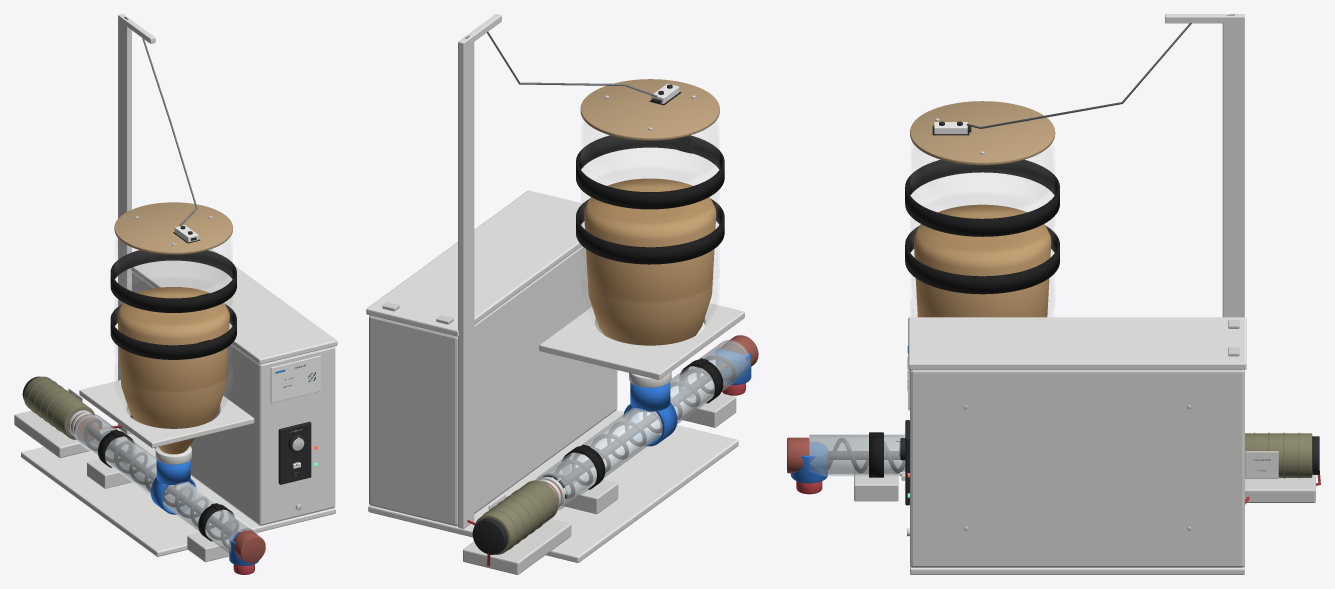
Rendered from feeder-v1.1.0.glb.
3 renders of one model, left to right at view 1: azimuth 30°, elevation 25°; view 2: azimuth 150°, elevation 25°; view 3: azimuth 270°, elevation 25°, orthographic. The views are drawn at different scales.
Visible parts, largest first — view 1: Chassis, Grain_Fill, Base_Plate, Chassis_Lid, Tube_Glass, Hopper_Glass, Hopper_Lid, Hopper_Strap_2, Shelf, Post, Hopper_Strap_1, Motor_Body (+12 smaller); view 2: Chassis, Grain_Fill, Chassis_Lid, Base_Plate, Post, Tube_Glass, Hopper_Glass, Hopper_Lid, Shelf, Hopper_Strap_2, Hopper_Strap_1, Motor_Body (+13 smaller); view 3: Chassis, Chassis_Lid, Grain_Fill, Hopper_Glass, Post, Hopper_Lid, Hopper_Strap_2, Hopper_Strap_1, Tube_Glass, Base_Plate, Motor_Body, Motor_Mount (+5 smaller).
Part boxes in pixels (x1,y1,x2,y2): Chassis: (132,271,335,525); Grain_Fill: (117,287,229,454); Base_Plate: (21,428,335,556); Chassis_Lid: (131,249,337,364); Tube_Glass: (74,414,257,552); Hopper_Glass: (115,238,232,412); Hopper_Lid: (114,202,232,254); Hopper_Strap_2: (110,250,236,312); Shelf: (79,380,254,448); Post: (118,14,131,434); Hopper_Strap_1: (110,304,236,359); Motor_Body: (23,376,94,439); Chassis: (369,246,617,526); Grain_Fill: (584,178,716,345); Chassis_Lid: (366,190,584,336); Base_Plate: (368,410,738,562); Post: (458,34,474,528); Tube_Glass: (536,340,750,510); Hopper_Glass: (581,121,719,326); Hopper_Lid: (580,79,719,140); Shelf: (539,303,744,379); Hopper_Strap_2: (576,135,724,209); Hopper_Strap_1: (576,199,724,264); Motor_Body: (474,480,558,554); Chassis: (910,369,1244,567); Chassis_Lid: (908,317,1246,369); Grain_Fill: (913,204,1051,317); Hopper_Glass: (910,145,1054,316); Post: (1222,14,1244,317); Hopper_Lid: (910,101,1055,165); Hopper_Strap_2: (905,159,1059,236); Hopper_Strap_1: (905,226,1059,294); Tube_Glass: (809,434,905,476); Base_Plate: (910,565,1244,574); Motor_Body: (1245,433,1312,477); Motor_Mount: (1245,475,1315,502).
Bounding box in the file's own units: 0.359 × 0.7611 × 0.7167.
